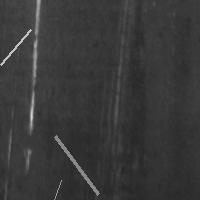scratches: (50, 131, 103, 199), (23, 1, 41, 170), (109, 30, 129, 129), (0, 25, 35, 70), (39, 175, 66, 200)
